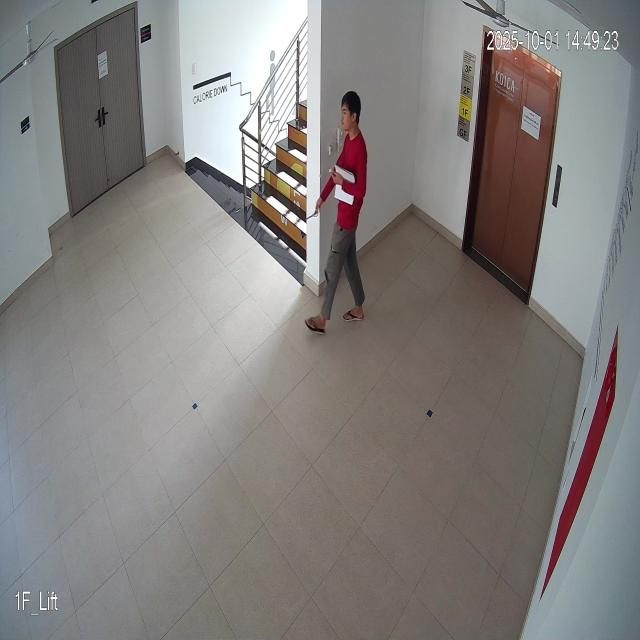face: (338, 88, 362, 138)
